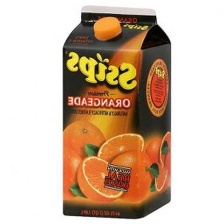carton: (50, 2, 174, 223)
